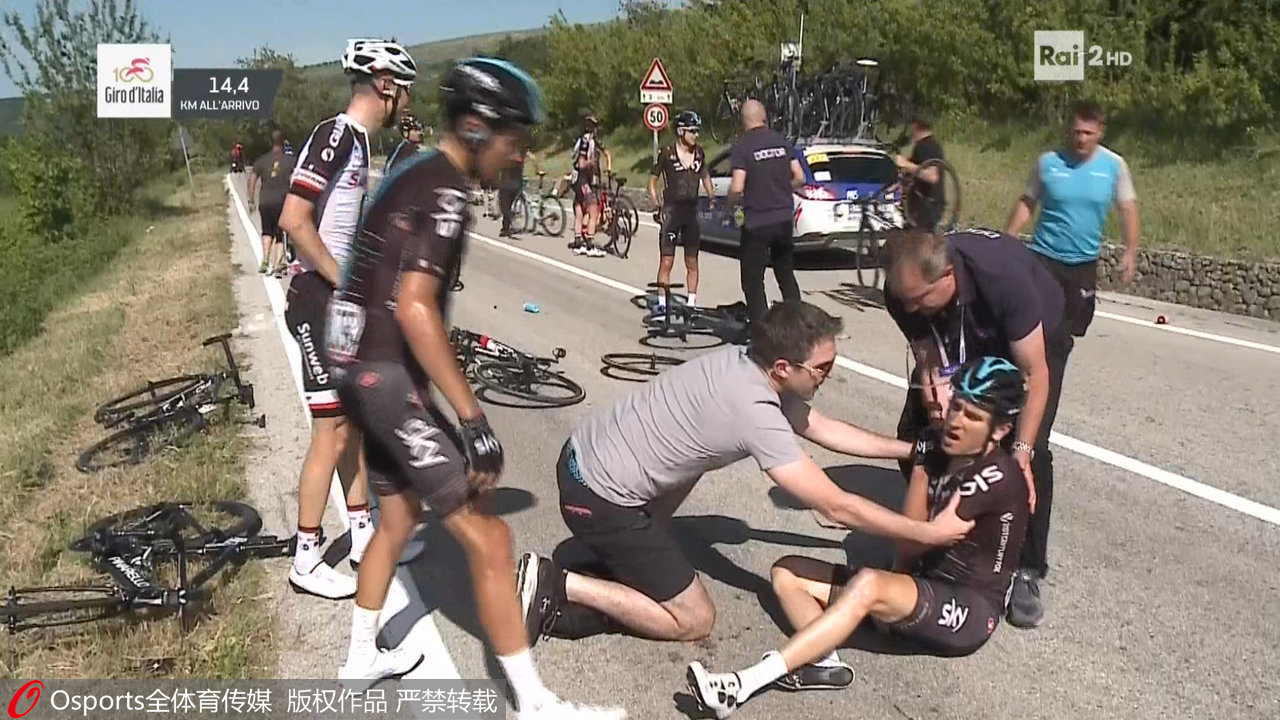fall: (680, 351, 1037, 720)
